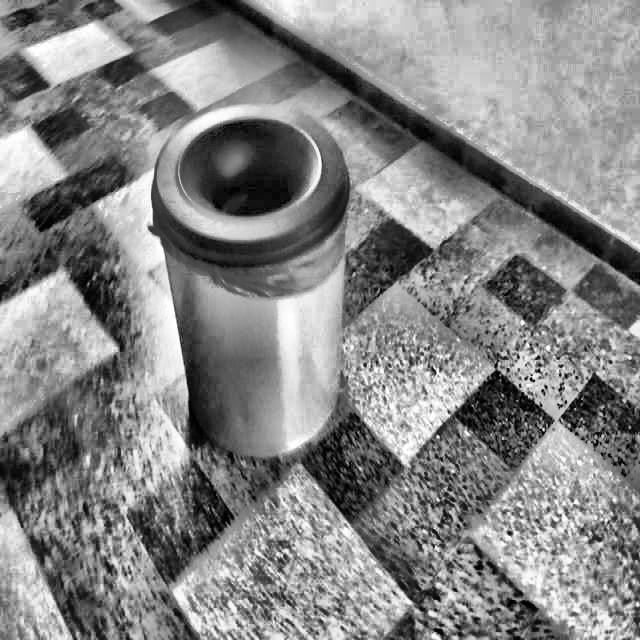Dustbin: (135, 86, 370, 492)
